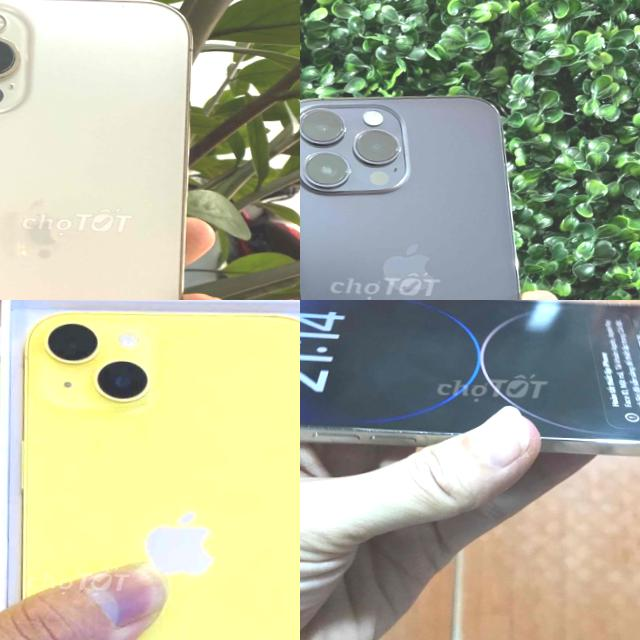gen_12_13: (0, 0, 211, 300)
gen_14: (0, 300, 300, 640), (300, 300, 640, 475), (300, 86, 554, 300)
